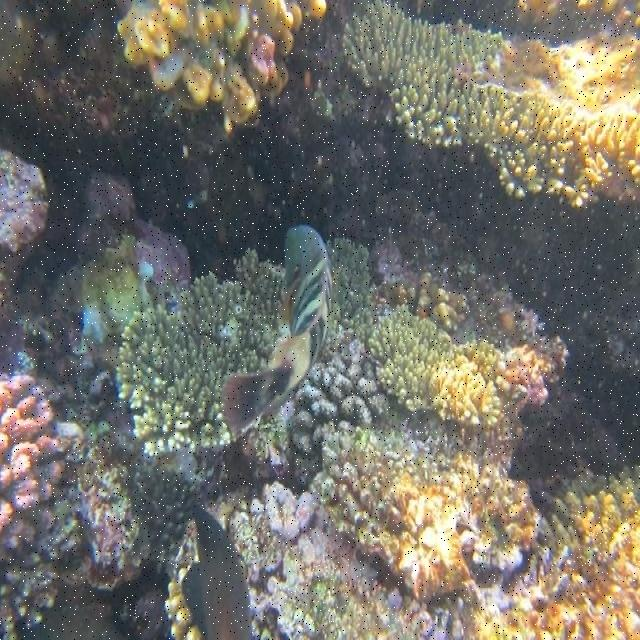fish: (219, 224, 333, 446), (184, 505, 254, 639)
reefs: (345, 0, 639, 210), (117, 248, 281, 459), (116, 0, 328, 134), (367, 307, 509, 429), (0, 371, 74, 561), (293, 323, 384, 453), (333, 237, 376, 334)
